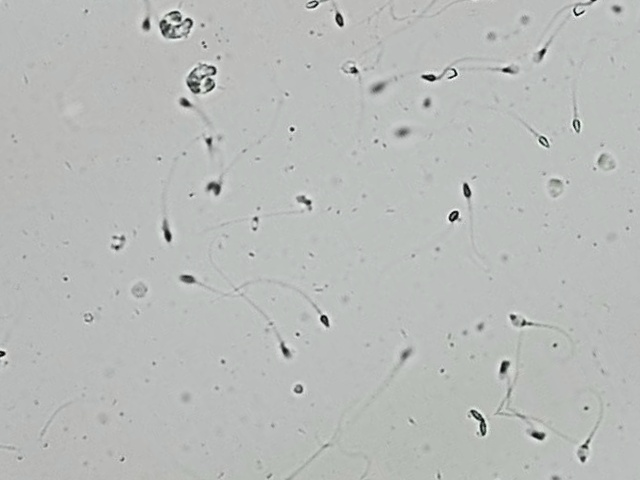sperm: (123, 35, 249, 143), (155, 158, 247, 300), (154, 64, 276, 158), (188, 205, 284, 305), (157, 146, 263, 218), (291, 307, 383, 381), (98, 112, 172, 200), (474, 255, 544, 334), (408, 4, 484, 66), (416, 142, 472, 220), (144, 224, 210, 286), (355, 73, 427, 127), (332, 30, 406, 78), (362, 182, 432, 232), (312, 30, 360, 94), (466, 330, 508, 382), (333, 0, 439, 20), (497, 86, 533, 132), (162, 70, 192, 110), (172, 454, 236, 472), (404, 50, 434, 74), (188, 118, 210, 146), (368, 0, 439, 8), (458, 393, 476, 413), (274, 0, 330, 6), (317, 0, 337, 14), (262, 228, 276, 242), (0, 330, 4, 352), (0, 341, 0, 359)
